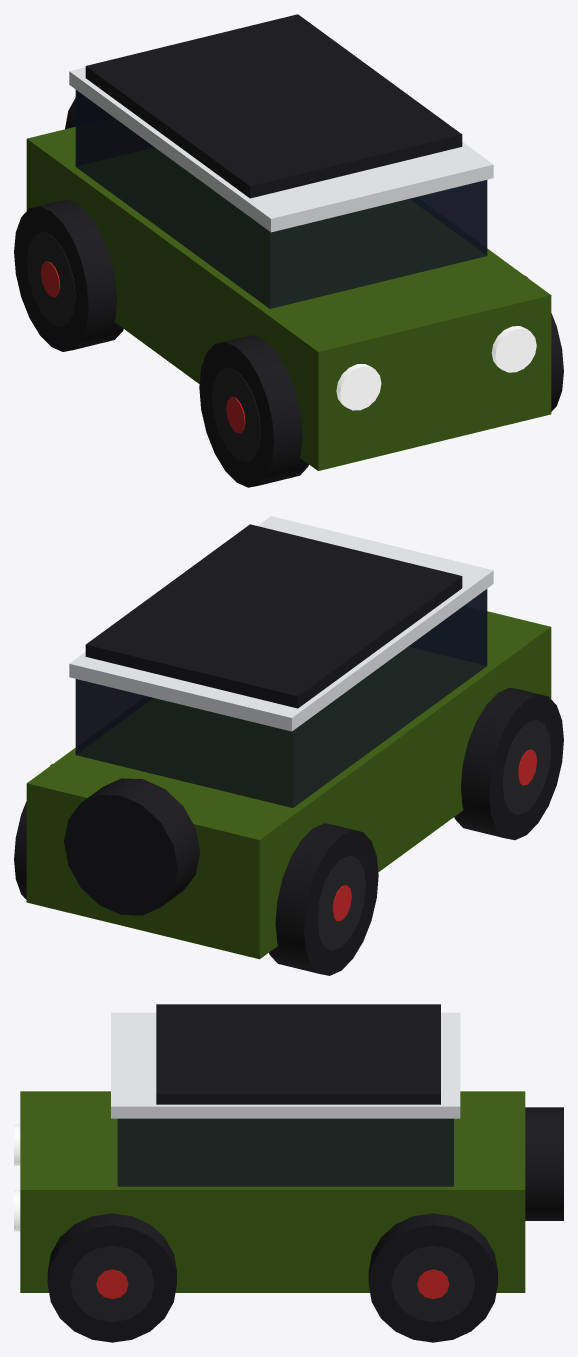
The model's file is defender_110.glb.
3 views of the same model, one above another, from view 1: azimuth 30°, elevation 25°; view 2: azimuth 150°, elevation 25°; view 3: azimuth 270°, elevation 25° (orthographic). The views are drawn at different scales.
Size of the model in its own units: 0.5316 by 0.4659 by 1.
